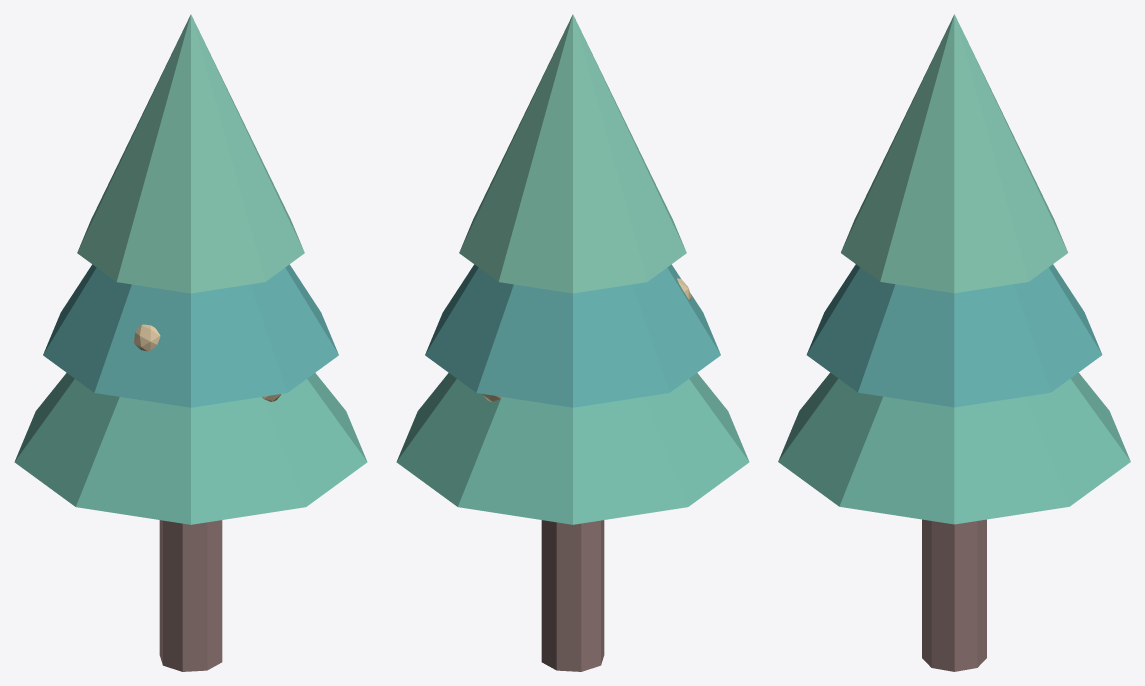
Rendered from storybook_tree.gltf.
The picture shows the model from 3 angles, left to right: view 1: azimuth 30°, elevation 25°; view 2: azimuth 150°, elevation 25°; view 3: azimuth 270°, elevation 25°; orthographic projection.
Visible parts, largest first — view 1: mint_canopy_0, mint_canopy_2, mint_canopy_1, storybook_trunk, fairy_fruit_2; view 2: mint_canopy_0, mint_canopy_2, mint_canopy_1, storybook_trunk; view 3: mint_canopy_0, mint_canopy_2, mint_canopy_1, storybook_trunk.
Part boxes in pixels (x1,y1,x2,y2): mint_canopy_0: (14,373,367,524); mint_canopy_2: (77,14,304,293); mint_canopy_1: (43,264,338,407); storybook_trunk: (159,520,222,671); fairy_fruit_2: (134,324,160,351); mint_canopy_0: (396,373,749,524); mint_canopy_2: (459,14,686,293); mint_canopy_1: (425,264,720,407); storybook_trunk: (541,520,604,671); mint_canopy_0: (778,372,1130,524); mint_canopy_2: (841,14,1067,293); mint_canopy_1: (806,264,1102,407); storybook_trunk: (922,519,986,671).
Size of the model in its own units: 3.01 by 6.15 by 3.05.
